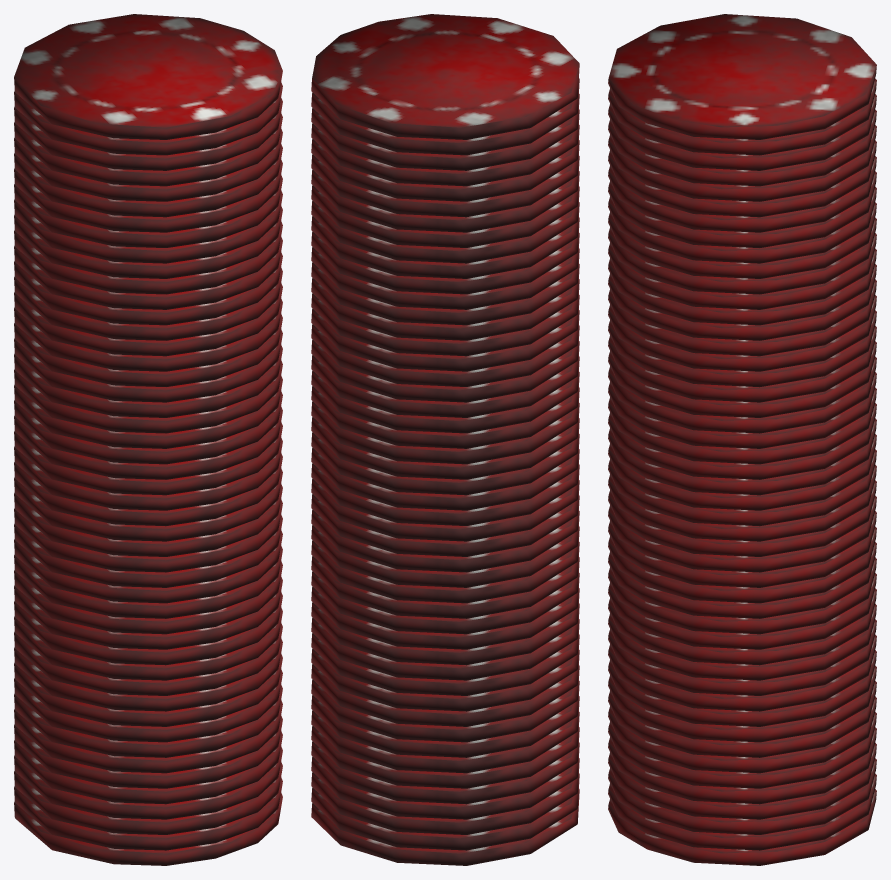
File: Coin.fbx_Collection_PokerChip_Red.fbx
3 views of the same model, side by side, from view 1: azimuth 30°, elevation 25°; view 2: azimuth 150°, elevation 25°; view 3: azimuth 270°, elevation 25° (orthographic).
Parts seen in each view (by area): view 1: PokerChip_Red; view 2: PokerChip_Red; view 3: PokerChip_Red.
Boxes of the visible parts, x1,y1,x2,y2 form: PokerChip_Red: (14, 14, 282, 865); PokerChip_Red: (311, 14, 579, 865); PokerChip_Red: (608, 14, 876, 865).
Bounding box in the file's own units: 15.75 × 47.82 × 15.78.
